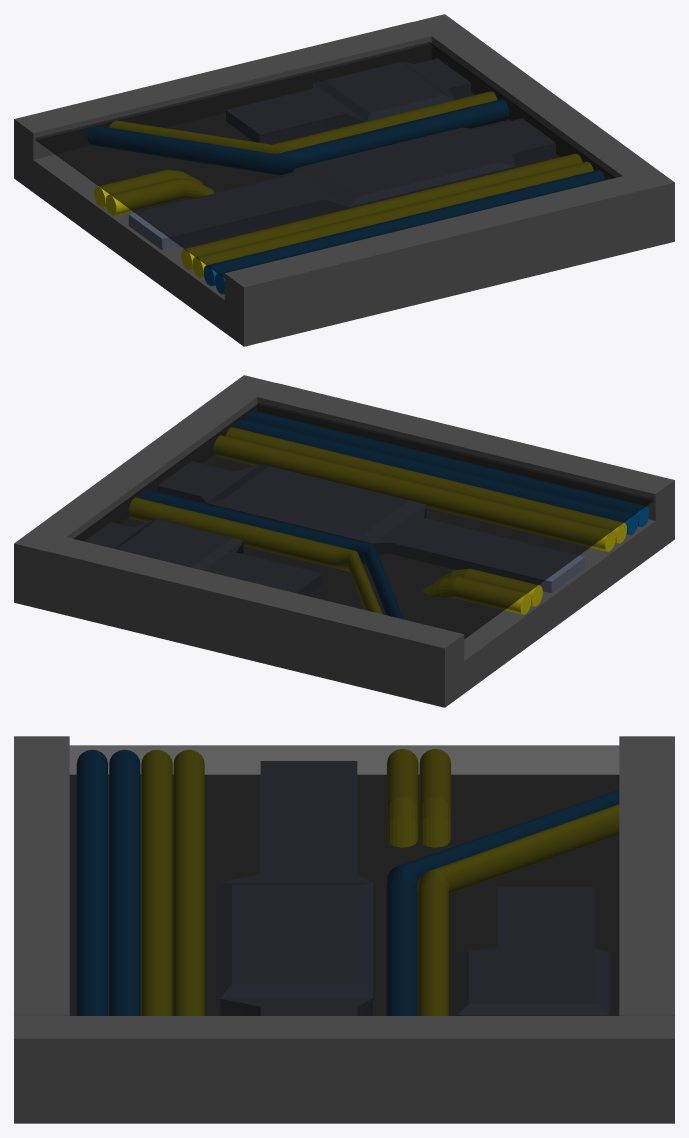
File: ModularTile1_Left.fbx
The picture shows the model from 3 angles, top to bottom: view 1: azimuth 30°, elevation 25°; view 2: azimuth 150°, elevation 25°; view 3: azimuth 270°, elevation 25°; orthographic projection. The views are drawn at different scales.
Visible parts, largest first — view 1: polySurface24; view 2: polySurface24; view 3: polySurface24.
Boxes of the visible parts, x1,y1,x2,y2 form: polySurface24: [14, 14, 674, 346]; polySurface24: [14, 375, 674, 707]; polySurface24: [14, 736, 674, 1123].
Size of the model in its own units: 7.4 by 0.9734 by 6.84.
